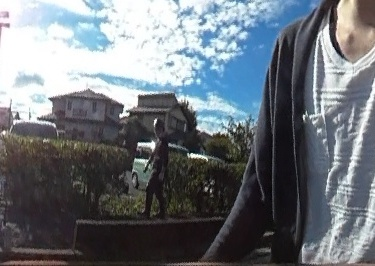person: (145, 116, 170, 219)
